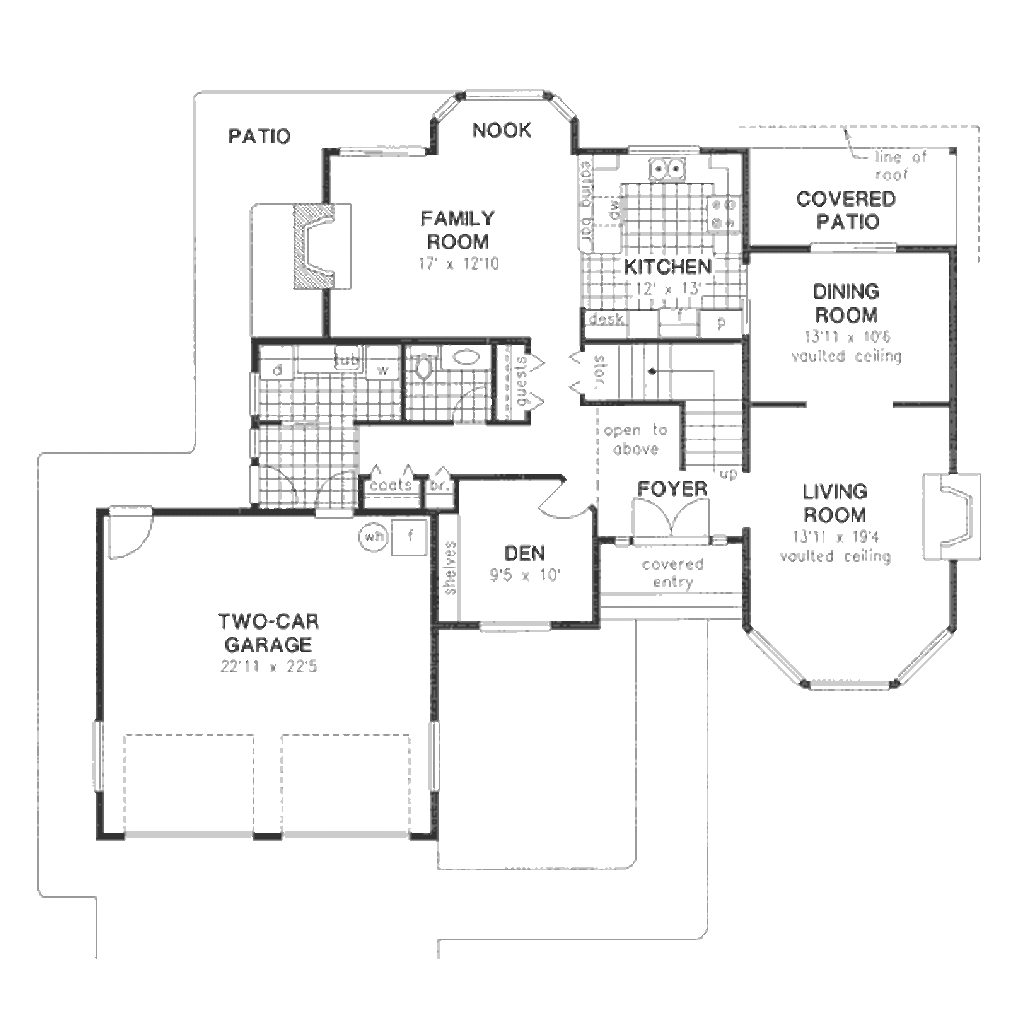door: (626, 491, 717, 538), (93, 499, 156, 565), (539, 465, 594, 526), (245, 460, 304, 513), (310, 462, 358, 522), (445, 380, 501, 426)
large_sink: (405, 341, 439, 395)
small_sink: (437, 337, 498, 383)
stairs: (582, 351, 750, 472)
twin_sink: (632, 146, 707, 183)
window: (742, 627, 963, 697), (436, 84, 575, 122), (418, 708, 459, 795), (75, 714, 109, 800), (809, 235, 907, 262), (472, 615, 561, 641)
